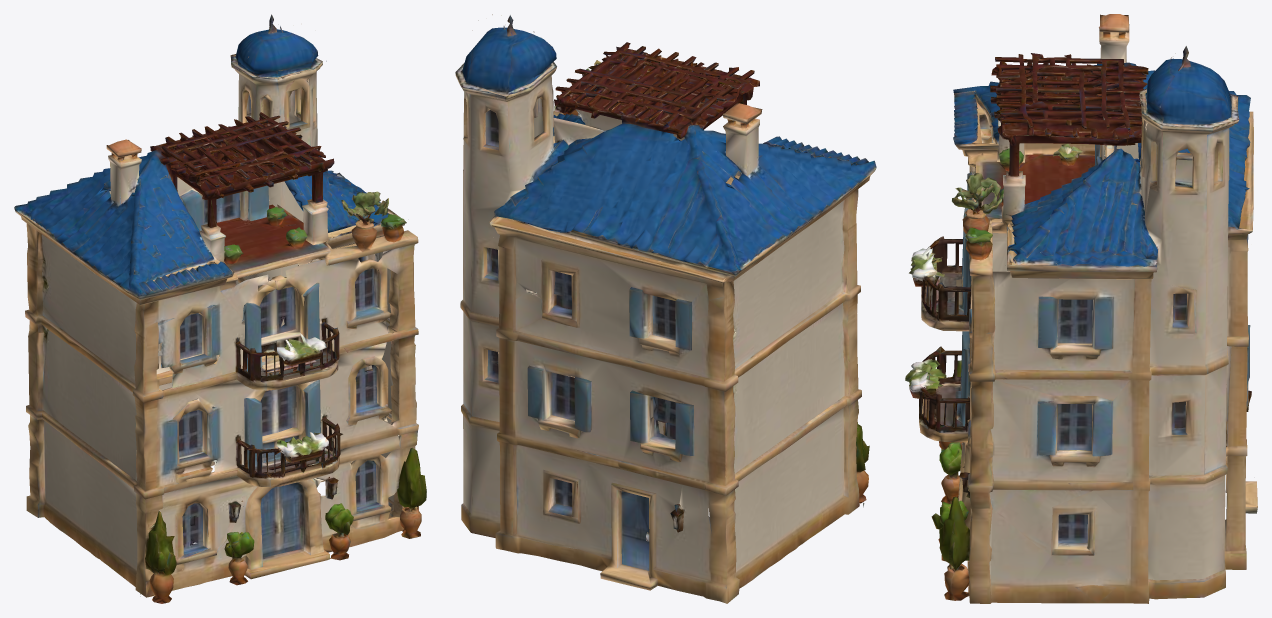
Rendered from candidate.glb.
3 views of the same model, side by side, from view 1: azimuth 30°, elevation 25°; view 2: azimuth 150°, elevation 25°; view 3: azimuth 270°, elevation 25° (orthographic). The views are drawn at different scales.
Parts seen in each view (by area): view 1: harbor__tower_3__native_mobile; view 2: harbor__tower_3__native_mobile; view 3: harbor__tower_3__native_mobile.
Boxes of the visible parts, box(x1,y1,x2,y2) form: harbor__tower_3__native_mobile: box(14, 14, 426, 603); harbor__tower_3__native_mobile: box(455, 14, 876, 603); harbor__tower_3__native_mobile: box(905, 14, 1257, 603).
Bounding box in the file's own units: 0.6685 × 1 × 0.6001.
1 material, 1 textured.
